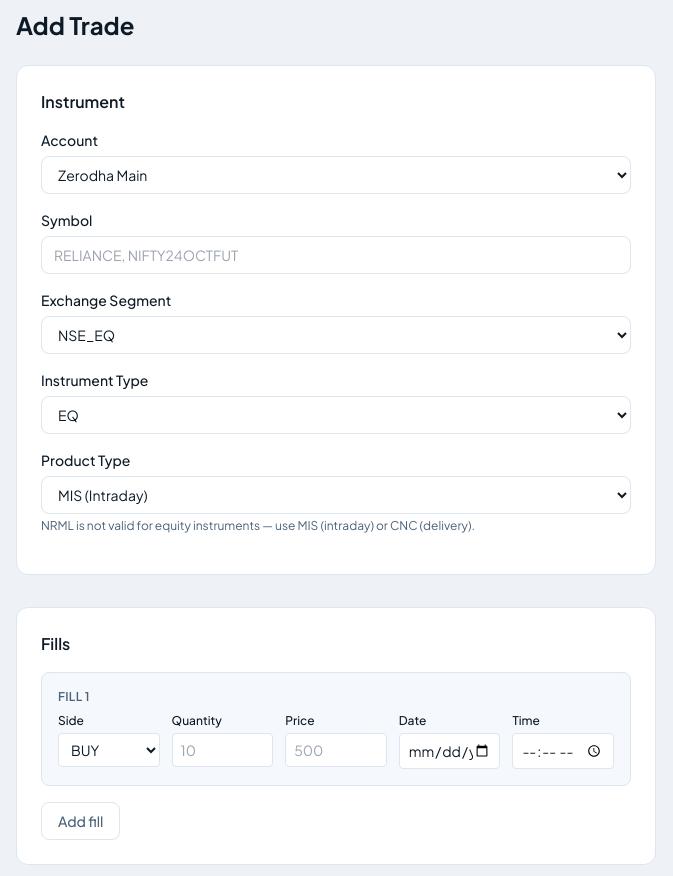
Scenario: AddTradePage — F-16-03: strike price visibility › hides strike price for EQ and shows it for CE
The width and height of the screenshot is (673, 876).
Note: EQ: strike price not present
Select "EQ" in the dropdown labelled "Instrument Type" at {"x": 336, "y": 415}, box [41,396,631,434]
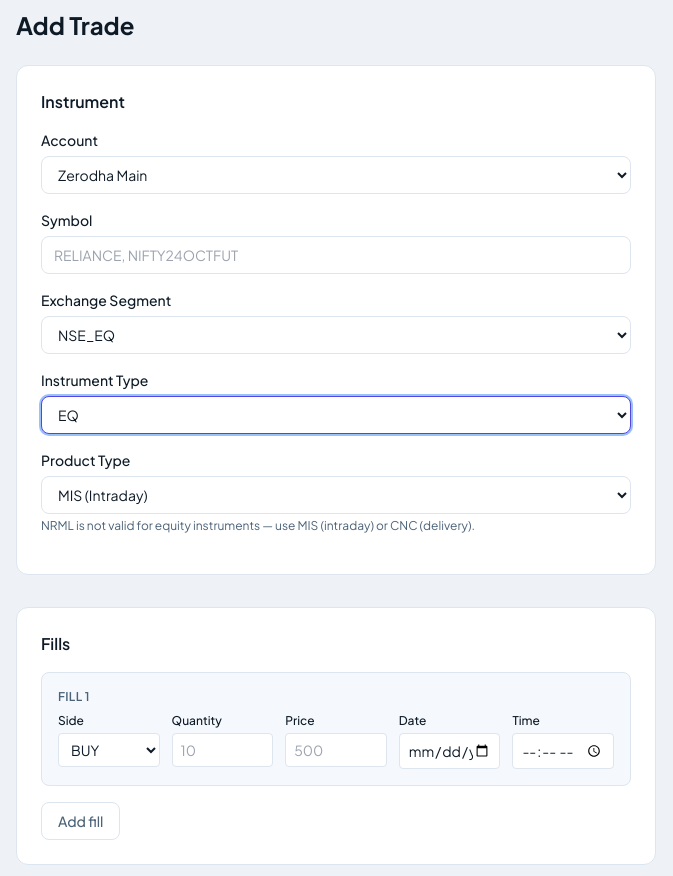
Check: the field labelled "strike price" is not shown
Note: CE: strike price shown
Select "CE" in the dropdown labelled "Instrument Type" at {"x": 336, "y": 415}, box [41,396,631,434]
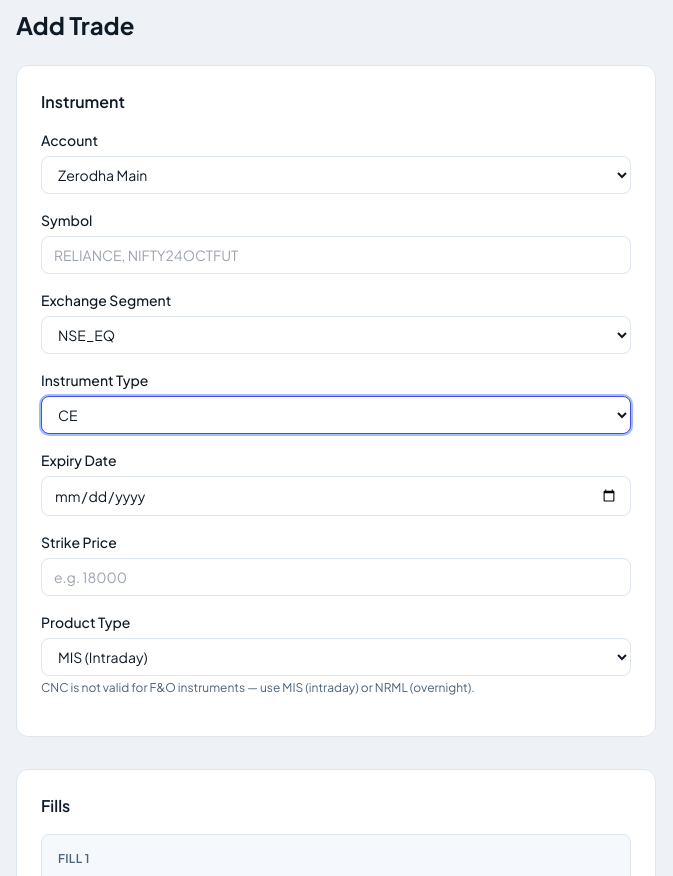
Check: the number field labelled "Strike Price" is shown, box [41,558,631,596]
